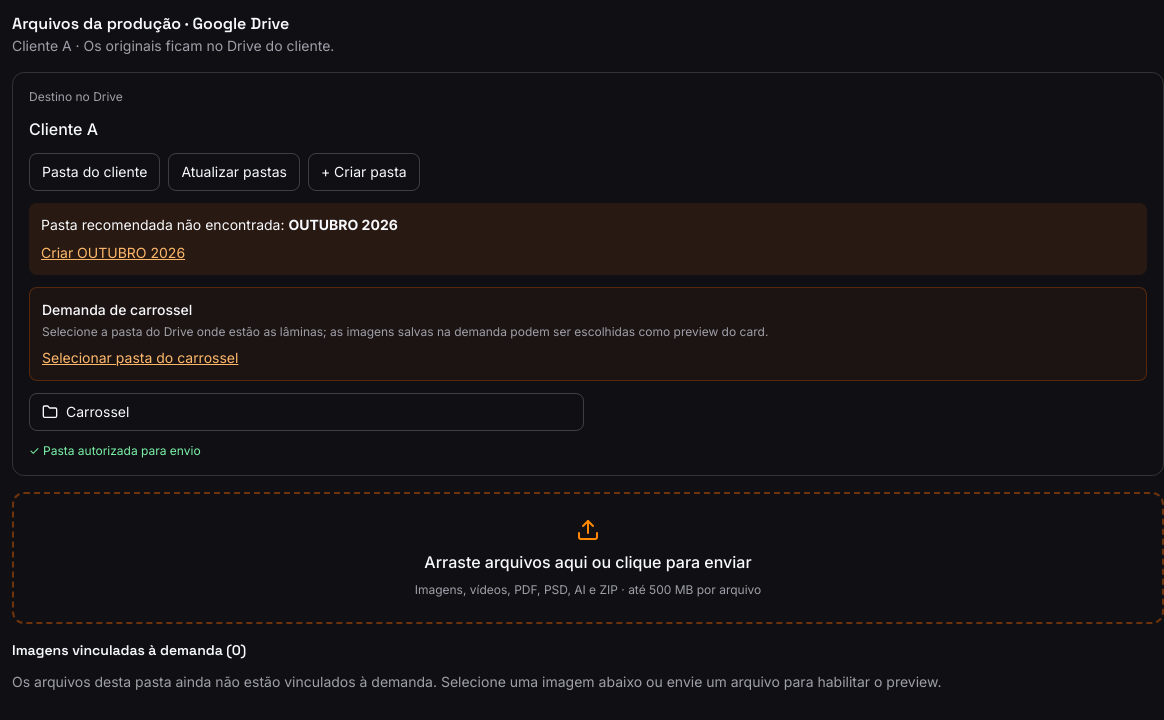
Production files inside a task › selects an existing carousel folder instead of suggesting another folder
What coordinates should you click on to do the following:
click the button "Selecionar pasta do carrossel"
I would click on:
 (140, 358)
Its box is [42,348,238,368].
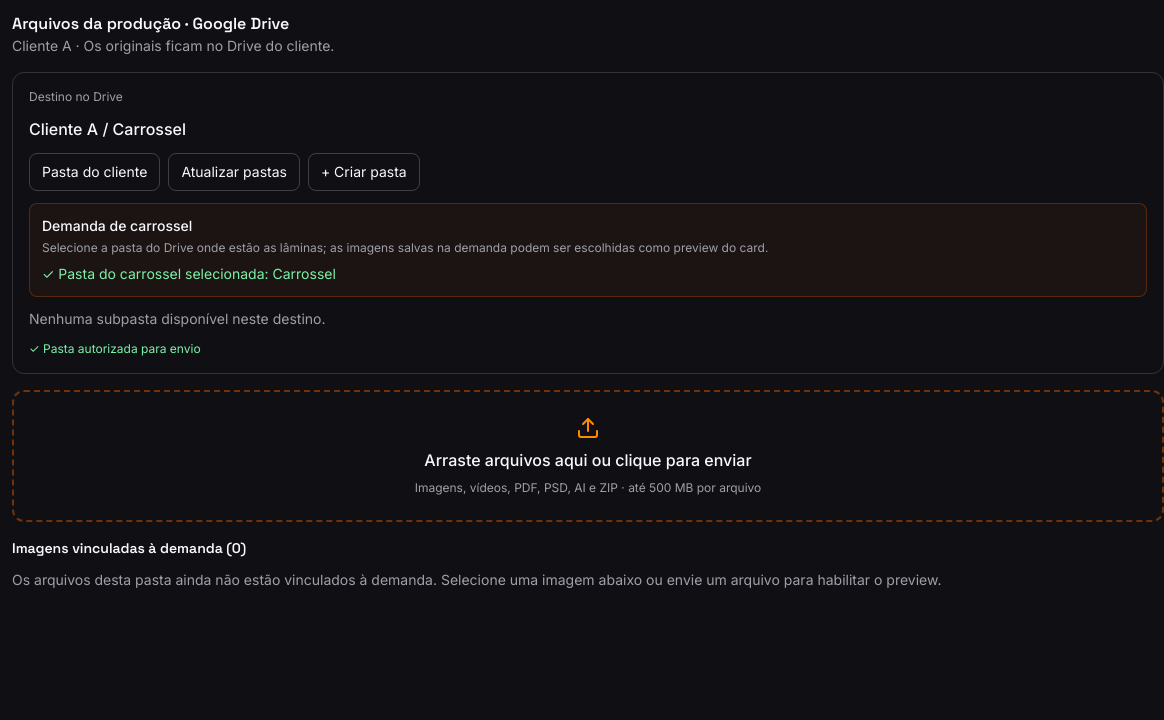
Expected: the text "✓ Pasta do carrossel selecionada: Carrossel" is shown, [42,265,336,282]
